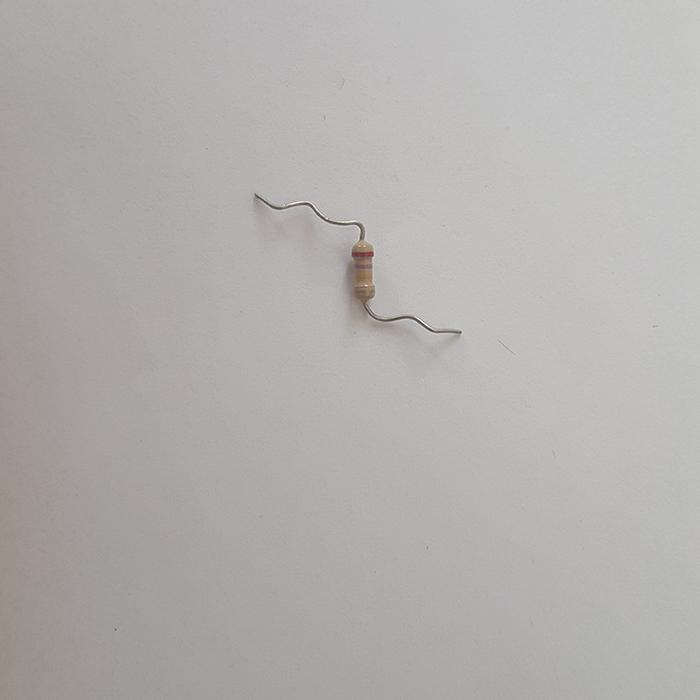resistor: (350, 238, 374, 298)
